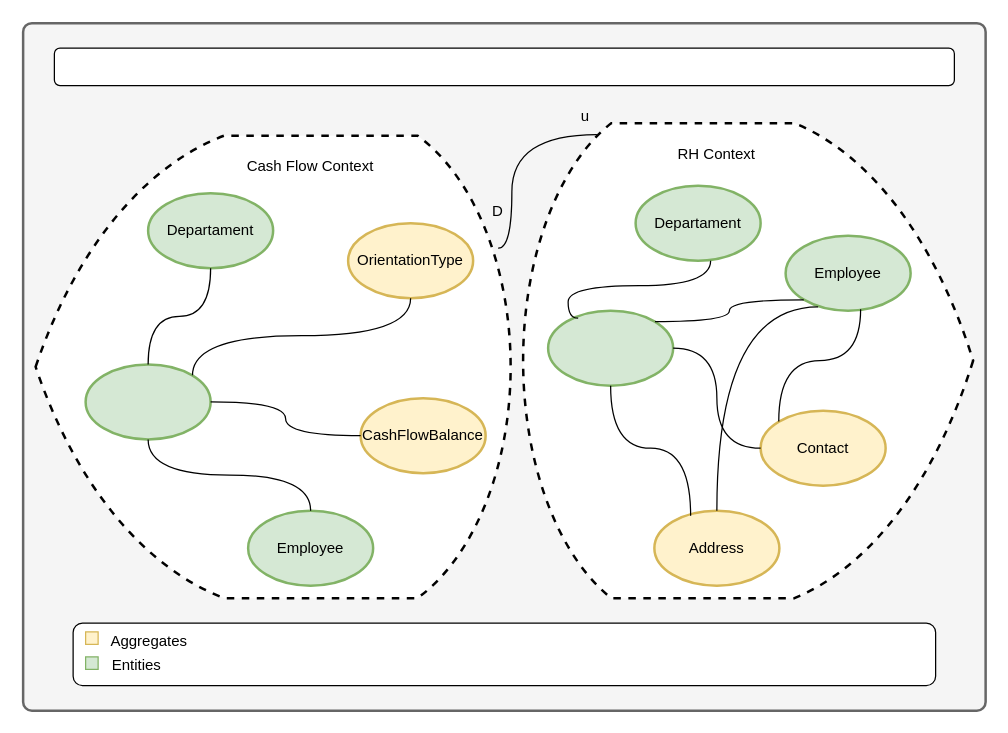
Some shapes in this 1008 by 733 pixel diagram are drawn without their labels. Here are the shapes that lost their labels. From the top down, the centre of each, then its label:
(x=503, y=66): Bounded Contexts
(x=610, y=347): Company
(x=147, y=401): CashFlow
